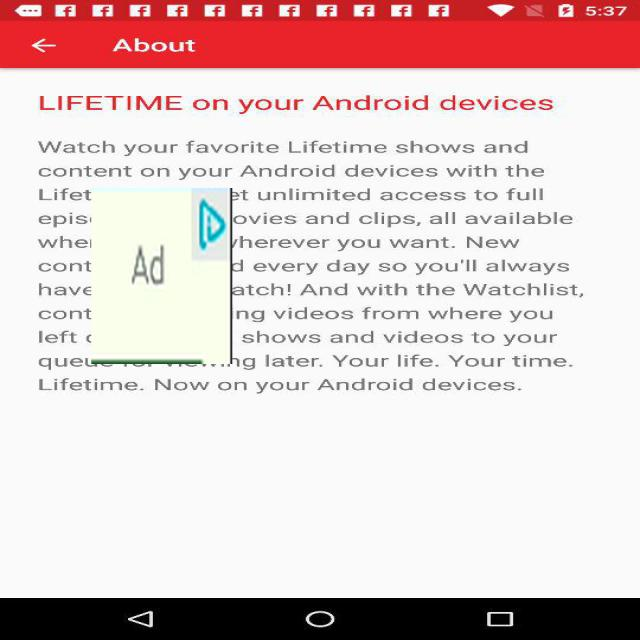sneaking: (91, 188, 232, 364)
